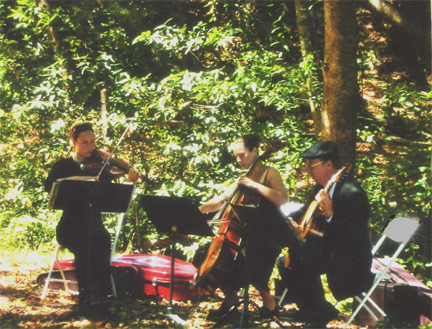person: (42, 119, 138, 325), (276, 140, 376, 329), (196, 132, 291, 322)
